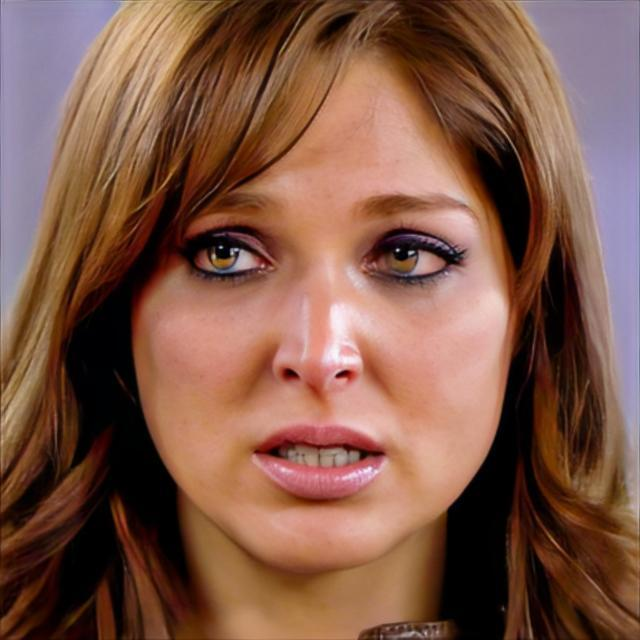sad: (124, 34, 518, 572)
